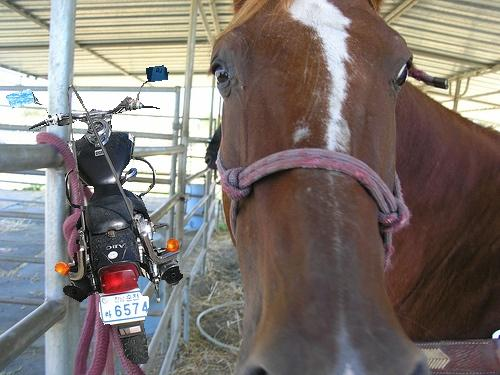tampered: (7, 66, 183, 364)
